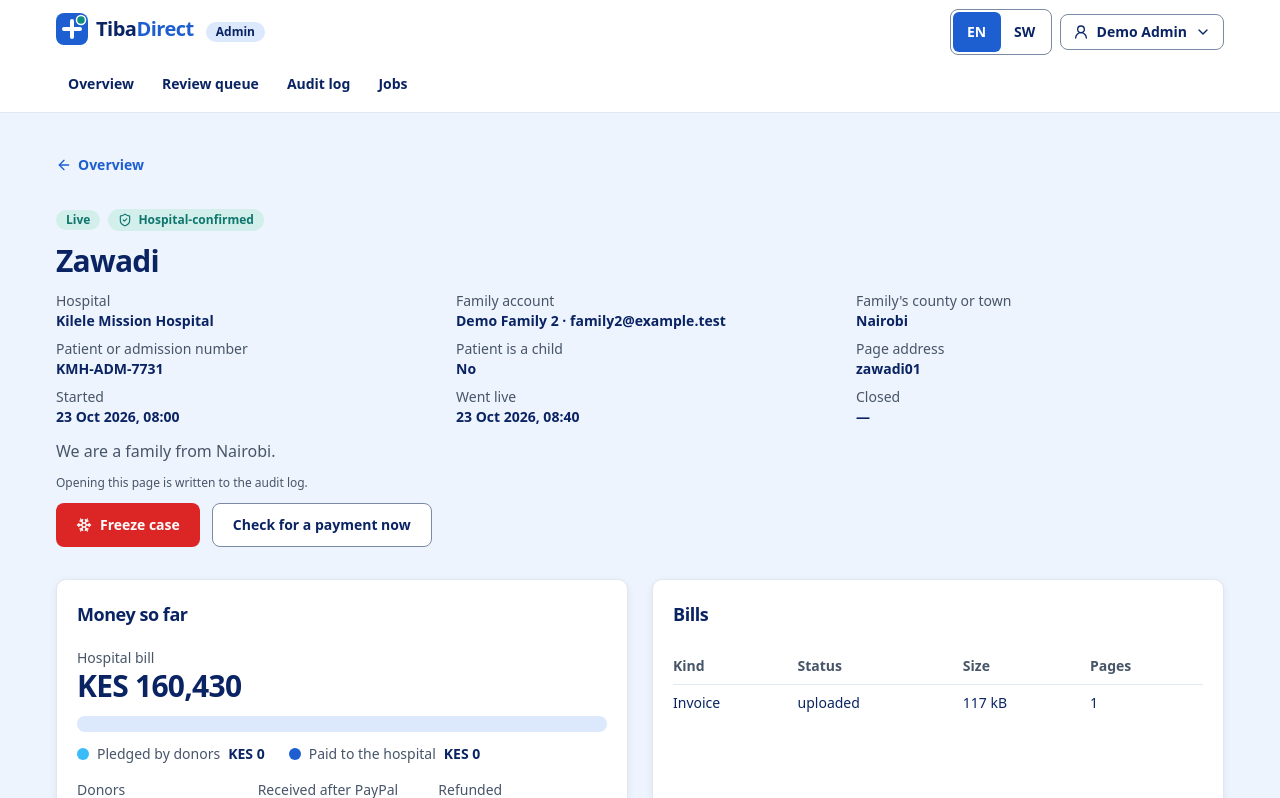
admin case detail › checks for a payment now and says why none was due
Click the button "Check for a payment now".
click(322, 525)  # box [212,503,432,547]
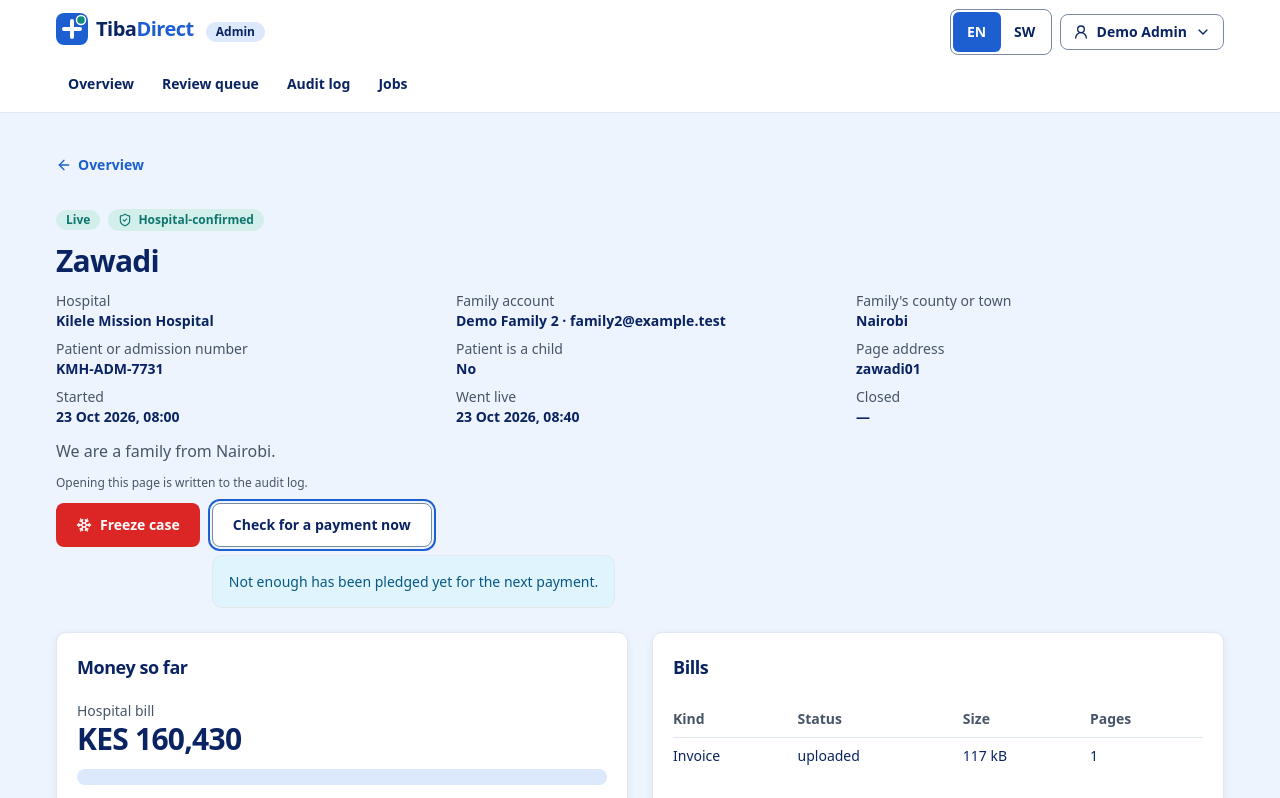
Expected: the text "Not enough has been pledged yet for the next payment." is shown, [229,572,598,591]
